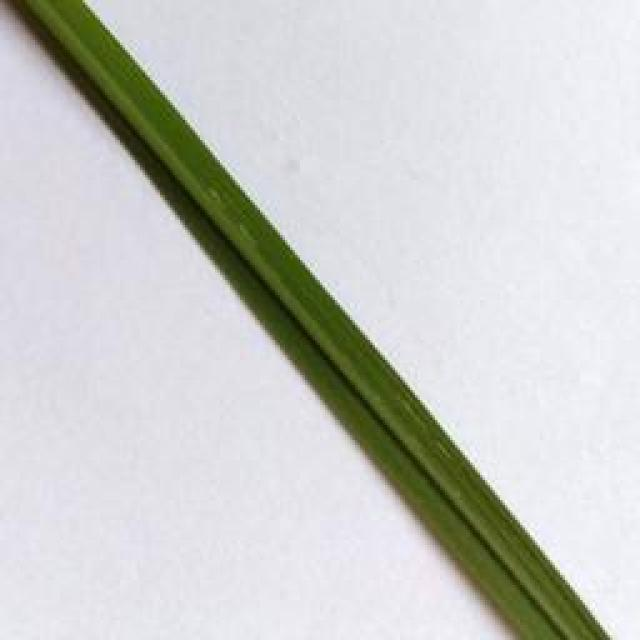Bacterial_Blight: (398, 395, 429, 433), (239, 223, 257, 245), (208, 188, 224, 205), (437, 444, 452, 460)
